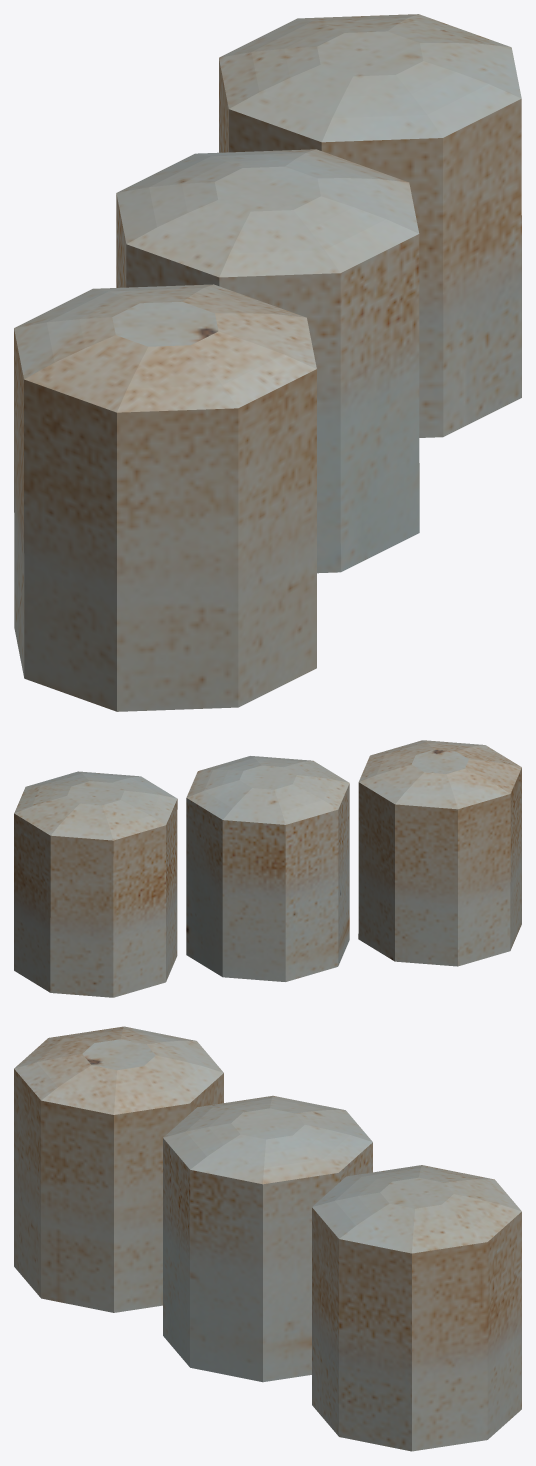
The model's file is youguan_01_12.fbx.
3 renders of one model, top to bottom at view 1: azimuth 30°, elevation 25°; view 2: azimuth 150°, elevation 25°; view 3: azimuth 270°, elevation 25°, orthographic. The views are drawn at different scales.
Parts seen in each view (by area): view 1: Youguan_01_12; view 2: Youguan_01_12; view 3: Youguan_01_12.
Part boxes in pixels (<box>): Youguan_01_12: <box>14,14,521,711</box>; Youguan_01_12: <box>14,740,521,997</box>; Youguan_01_12: <box>14,1026,521,1451</box>.
Bounding box in the file's own units: 1614 × 709 × 1522.
